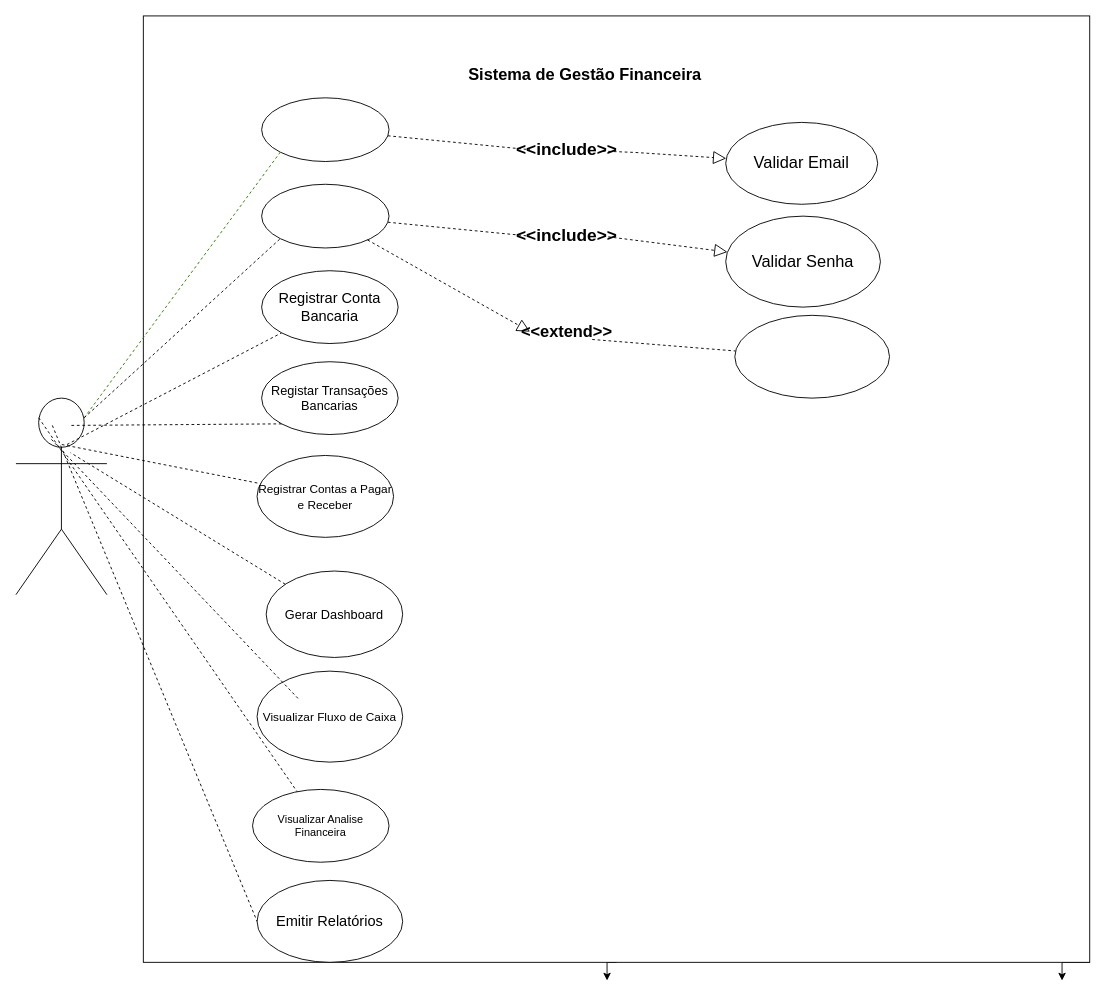
Some shapes in this 1113 by 1004 pixel diagram are drawn without their labels. Here are the shapes that lost their labels. From the top down, the box of each, then its label:
(261, 97, 389, 162): Criar Conta
(261, 183, 389, 248): Fazer Login
(734, 314, 890, 398): Exibir Erro
(15, 397, 107, 595): Actor
